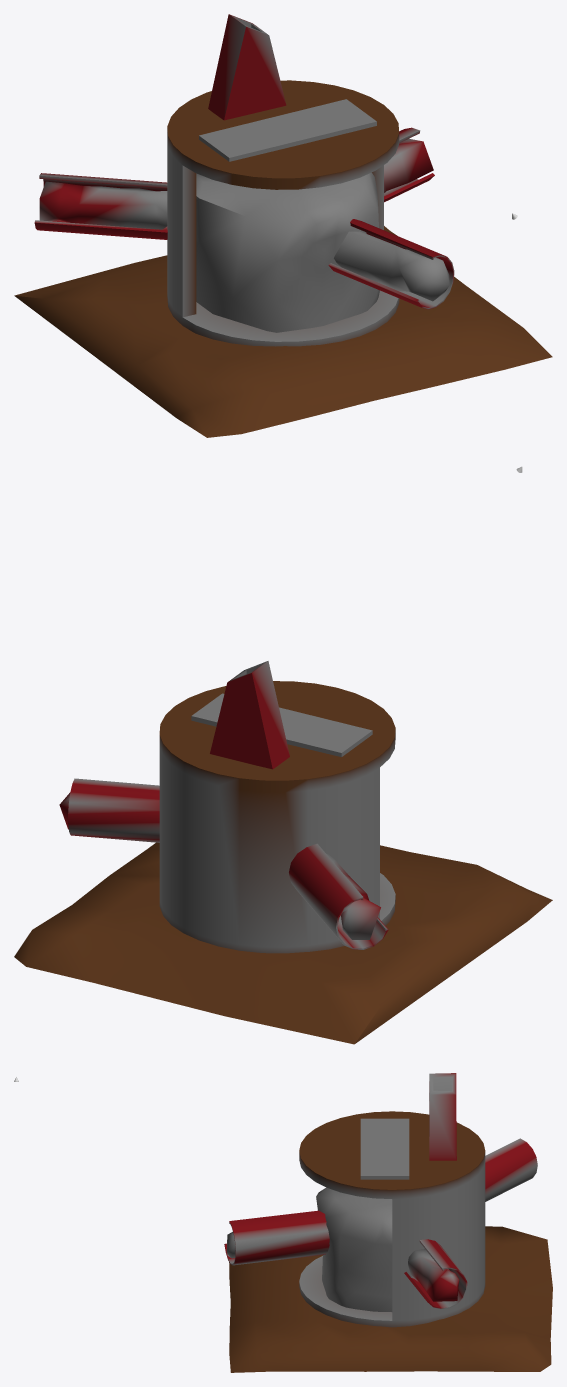
Rendered from modelo_prueba.glb.
3 views of the same model, one above another, from view 1: azimuth 30°, elevation 25°; view 2: azimuth 150°, elevation 25°; view 3: azimuth 270°, elevation 25° (orthographic). The views are drawn at different scales.
Parts seen in each view (by area): view 1: lumbrera_Generica_001_v001; view 2: lumbrera_Generica_001_v001; view 3: lumbrera_Generica_001_v001.
Boxes of the visible parts, x1,y1,x2,y2 form: lumbrera_Generica_001_v001: (14,14,552,437); lumbrera_Generica_001_v001: (14,661,552,1044); lumbrera_Generica_001_v001: (224,1073,552,1372).
Bounding box in the file's own units: 1.32 × 1.01 × 2.16.
